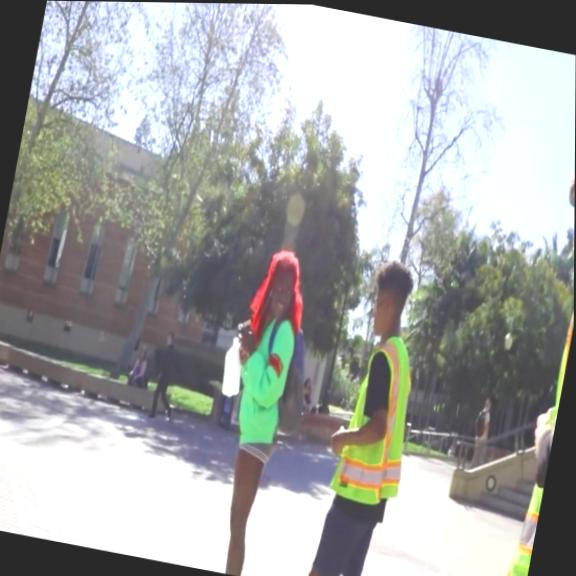safety_vest: (491, 268, 574, 576), (328, 331, 424, 509)
